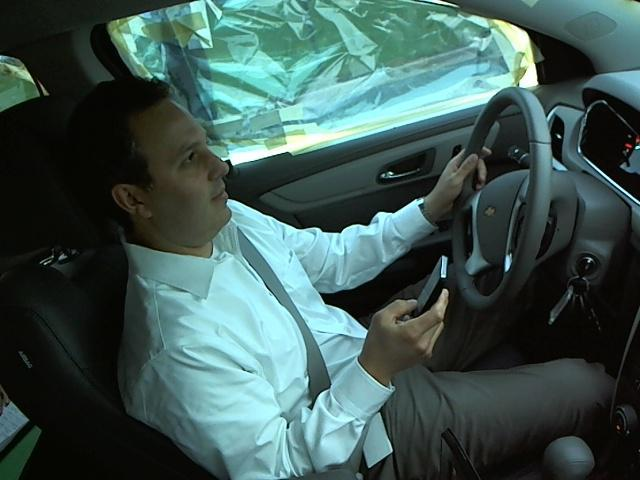PhoneUse: (396, 247, 457, 332)
